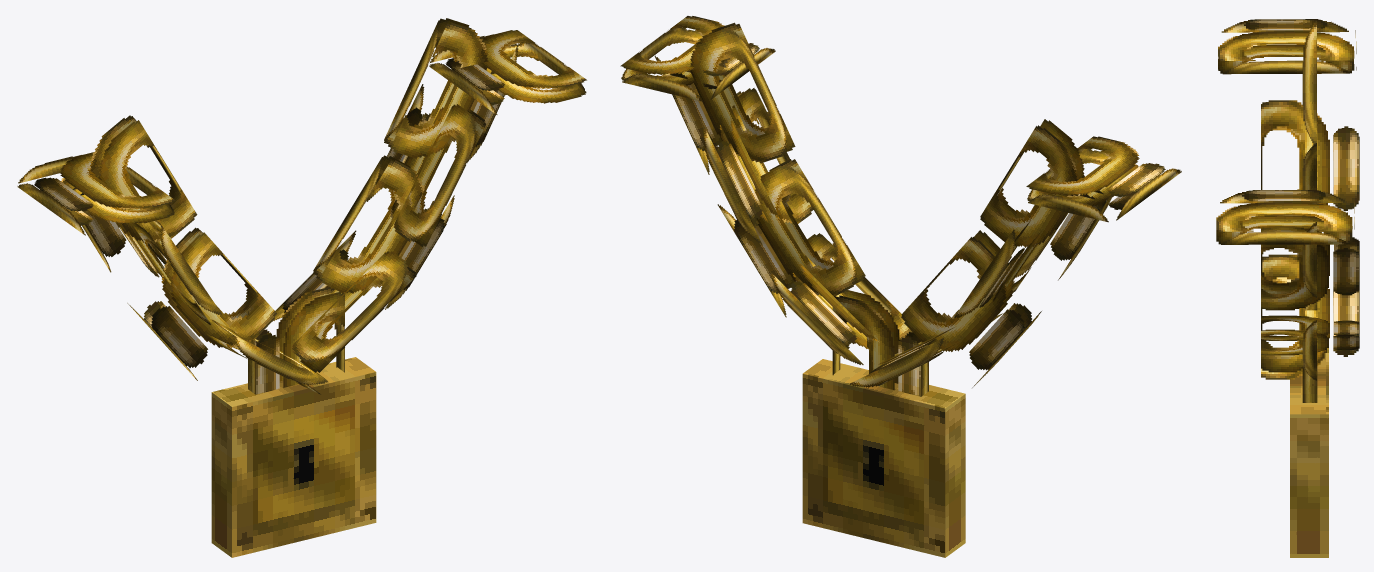
The model's file is INST_TROLLHOLE_TROLLLOCK.obj.
The picture shows the model from 3 angles, left to right: view 1: azimuth 30°, elevation 25°; view 2: azimuth 150°, elevation 25°; view 3: azimuth 270°, elevation 25°; orthographic projection. The views are drawn at different scales.
Visible parts, largest first — view 1: ollLock_Lod1_01; view 2: ollLock_Lod1_01; view 3: ollLock_Lod1_01.
Part boxes in pixels (x1,y1,x2,y2): ollLock_Lod1_01: [17, 18, 586, 557]; ollLock_Lod1_01: [620, 16, 1181, 557]; ollLock_Lod1_01: [1216, 19, 1359, 557].
Bounding box in the file's own units: 123 × 112 × 32.68.
